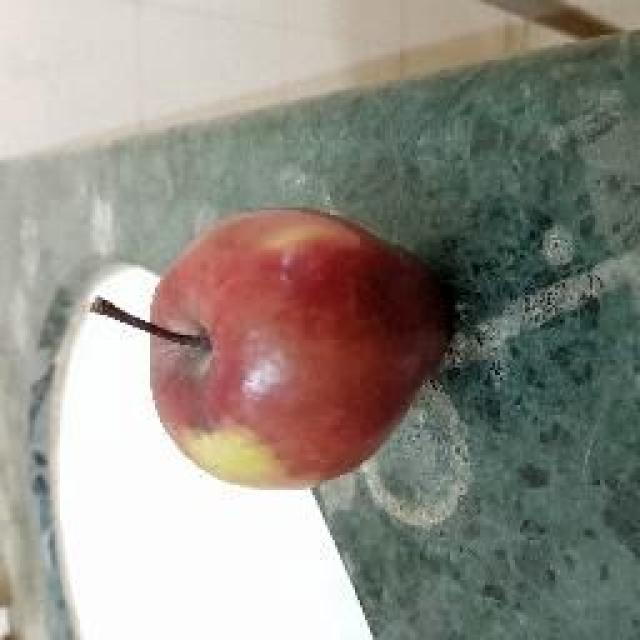Good_Apple: (130, 210, 452, 492)
